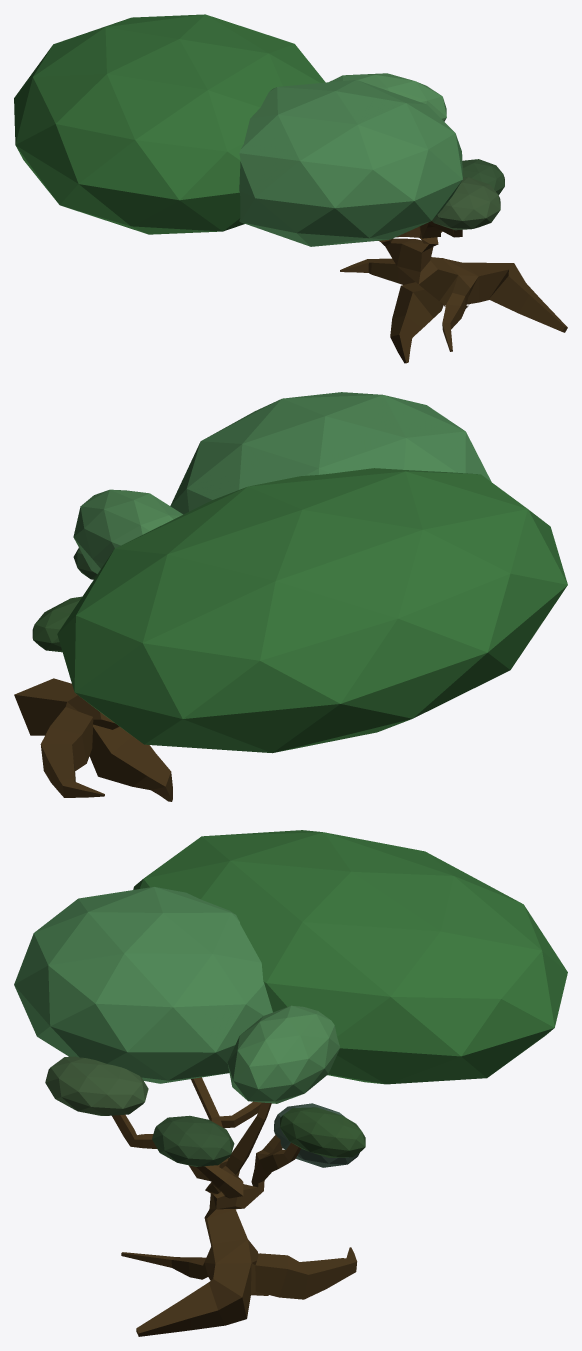
File: PolyTree.glb
3 views of the same model, one above another, from view 1: azimuth 30°, elevation 25°; view 2: azimuth 150°, elevation 25°; view 3: azimuth 270°, elevation 25° (orthographic). The views are drawn at different scales.
Parts seen in each view (by area): view 1: Icosphere.007, Icosphere.006, Cube, Icosphere.003, Icosphere.004, Icosphere.002; view 2: Icosphere.007, Icosphere.006, Cube, Icosphere.004, Icosphere.005; view 3: Icosphere.007, Icosphere.006, Cube, Icosphere.004, Icosphere.003, Icosphere.005, Icosphere.002, Icosphere.001.
Boxes of the visible parts, x1=… form: Icosphere.007: x1=14, y1=14, x2=325, y2=234; Icosphere.006: x1=239, y1=80, x2=462, y2=246; Cube: x1=340, y1=221, x2=567, y2=363; Icosphere.003: x1=432, y1=177, x2=500, y2=230; Icosphere.004: x1=329, y1=73, x2=446, y2=121; Icosphere.002: x1=462, y1=159, x2=504, y2=194; Icosphere.007: x1=57, y1=468, x2=567, y2=753; Icosphere.006: x1=170, y1=392, x2=491, y2=514; Cube: x1=14, y1=678, x2=172, y2=801; Icosphere.004: x1=73, y1=489, x2=182, y2=573; Icosphere.005: x1=32, y1=596, x2=81, y2=652; Icosphere.007: x1=133, y1=830, x2=567, y2=1084; Icosphere.006: x1=14, y1=887, x2=272, y2=1083; Cube: x1=112, y1=1077, x2=357, y2=1336; Icosphere.004: x1=227, y1=1005, x2=339, y2=1103; Icosphere.003: x1=45, y1=1056, x2=148, y2=1115; Icosphere.005: x1=280, y1=1107, x2=365, y2=1157; Icosphere.002: x1=152, y1=1115, x2=234, y2=1166; Icosphere.001: x1=274, y1=1103, x2=359, y2=1167.
Bounding box in the file's own units: 32.26 × 22.12 × 32.07.
